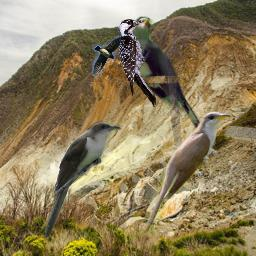Cuckoo: (119, 16, 221, 147), (141, 111, 232, 237), (41, 120, 122, 240)
Swallow: (92, 35, 123, 77)
Woodpecker: (118, 19, 156, 107)
